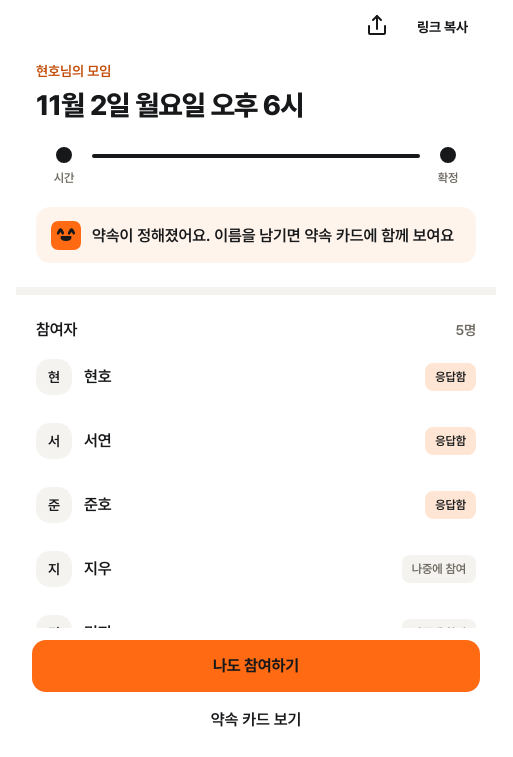
Test: 확정 뒤 처음 연 사람은 나도 참여하기로 이름을 남긴다
Expected: the text "나중에 참여" is shown 2 times, top-left (402, 555), bottom-right (476, 583); top-left (402, 619), bottom-right (476, 647)
Click the button "나도 참여하기": point(256, 666) top-left (32, 640), bottom-right (480, 692)
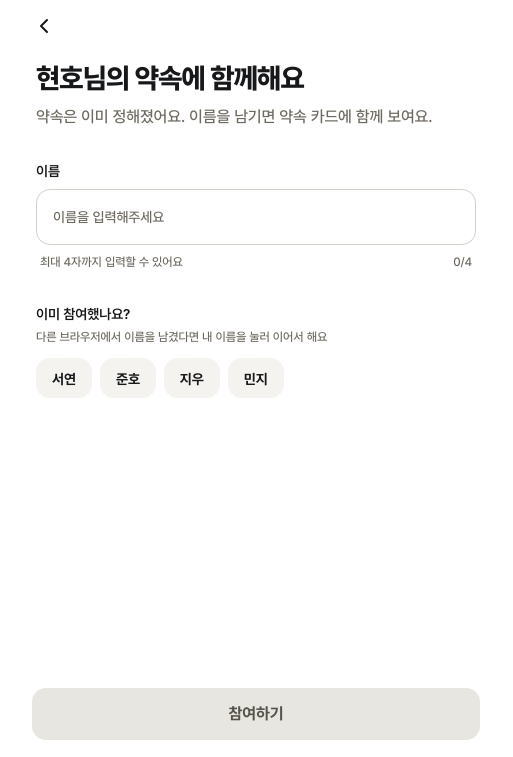
Expected: the heading "현호님의 약속에 함께해요" is shown, top-left (36, 61), bottom-right (304, 95)
Expected: the field labelled "이름" is shown, top-left (36, 189), bottom-right (476, 245)
